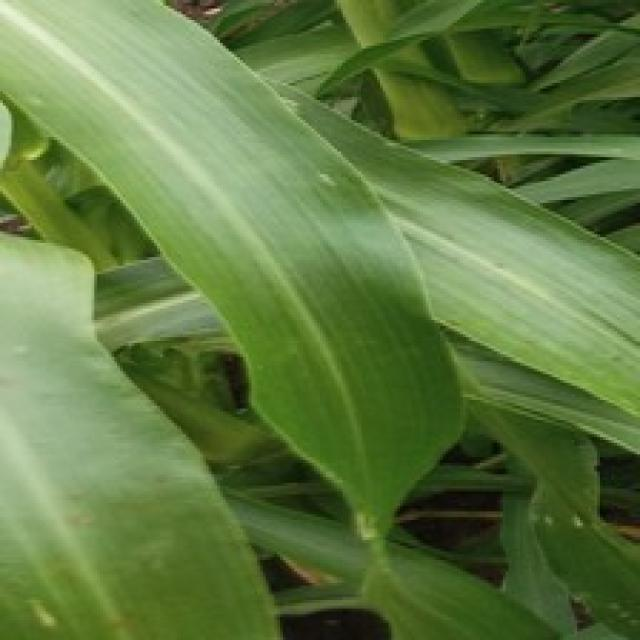Corn: (0, 0, 637, 637), (243, 71, 637, 480), (0, 214, 291, 637)
